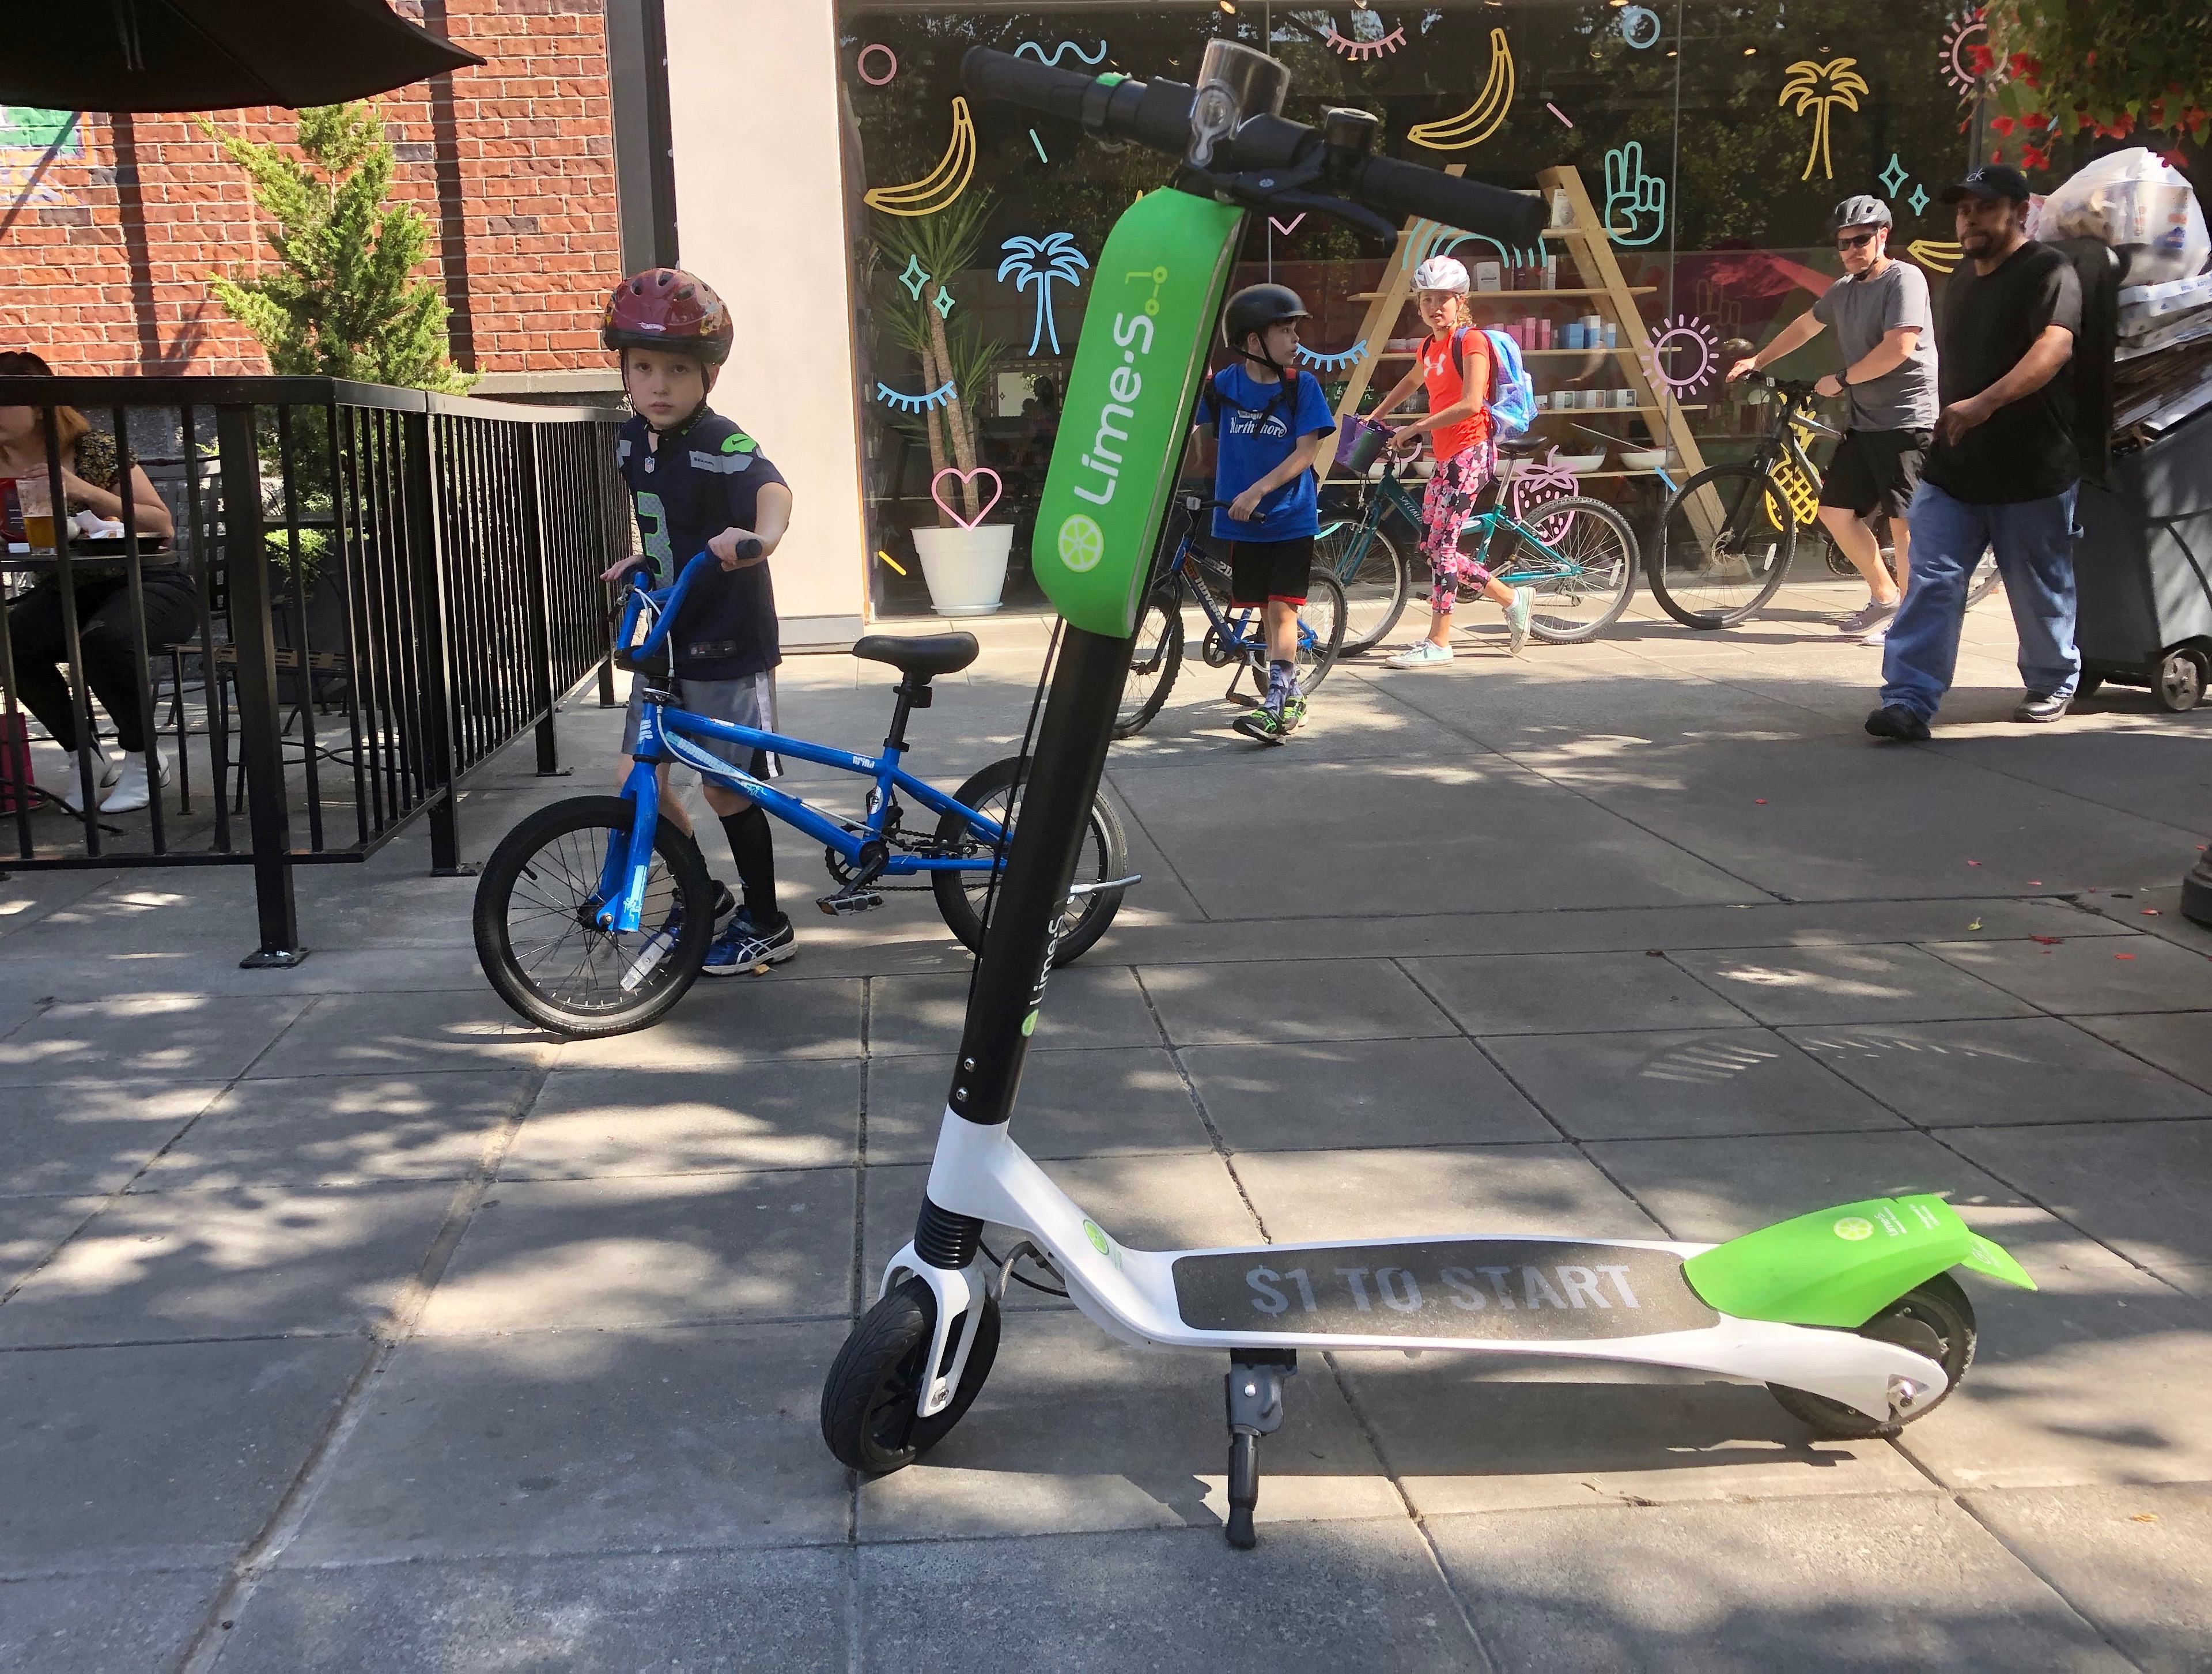scooter: (789, 33, 1994, 1516)
